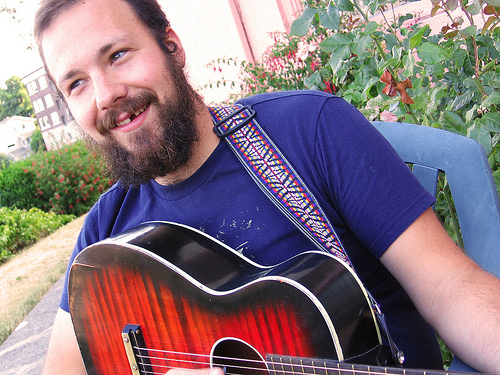guitar: (69, 220, 465, 375)
